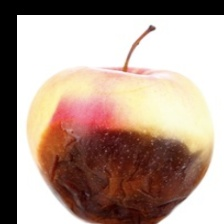apple: (20, 15, 183, 166)
